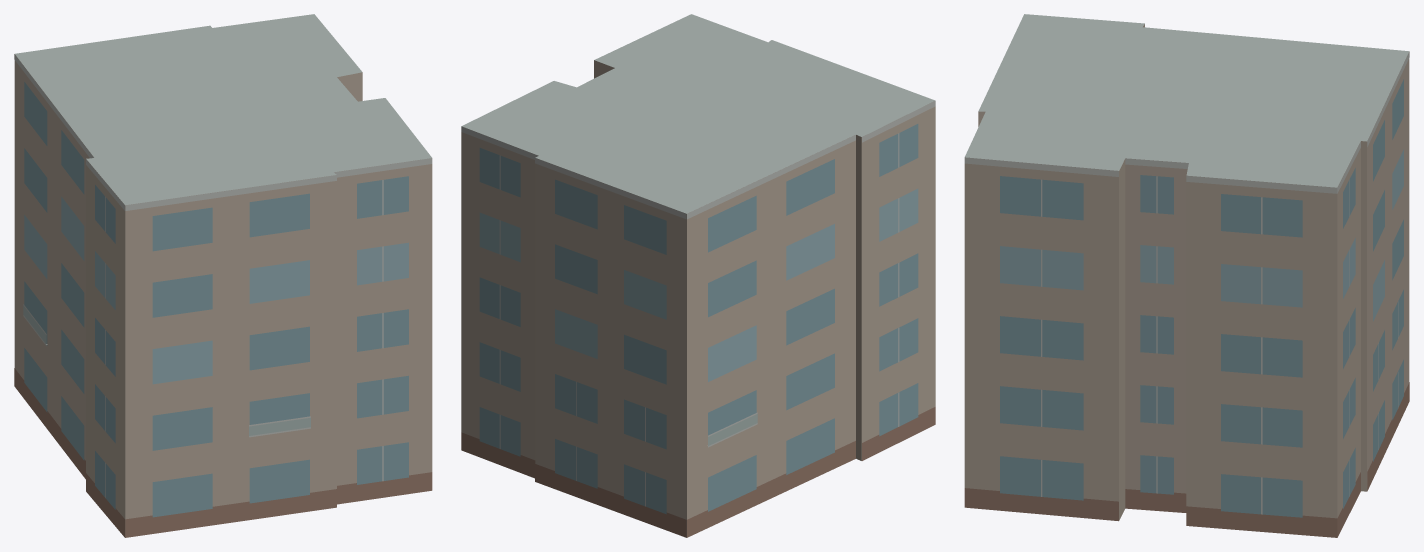
Rendered from survey-upis-32679281.glb.
3 views of the same model, side by side, from view 1: azimuth 30°, elevation 25°; view 2: azimuth 150°, elevation 25°; view 3: azimuth 270°, elevation 25° (orthographic). The views are drawn at different scales.
Visible parts, largest first — view 1: survey-upis-32679281.tmp; view 2: survey-upis-32679281.tmp; view 3: survey-upis-32679281.tmp.
Boxes of the visible parts, <box> form: survey-upis-32679281.tmp: <box>14,14,432,537</box>; survey-upis-32679281.tmp: <box>461,14,935,537</box>; survey-upis-32679281.tmp: <box>964,14,1409,537</box>.
Bounding box in the file's own units: 14.69 × 13.8 × 15.9.
